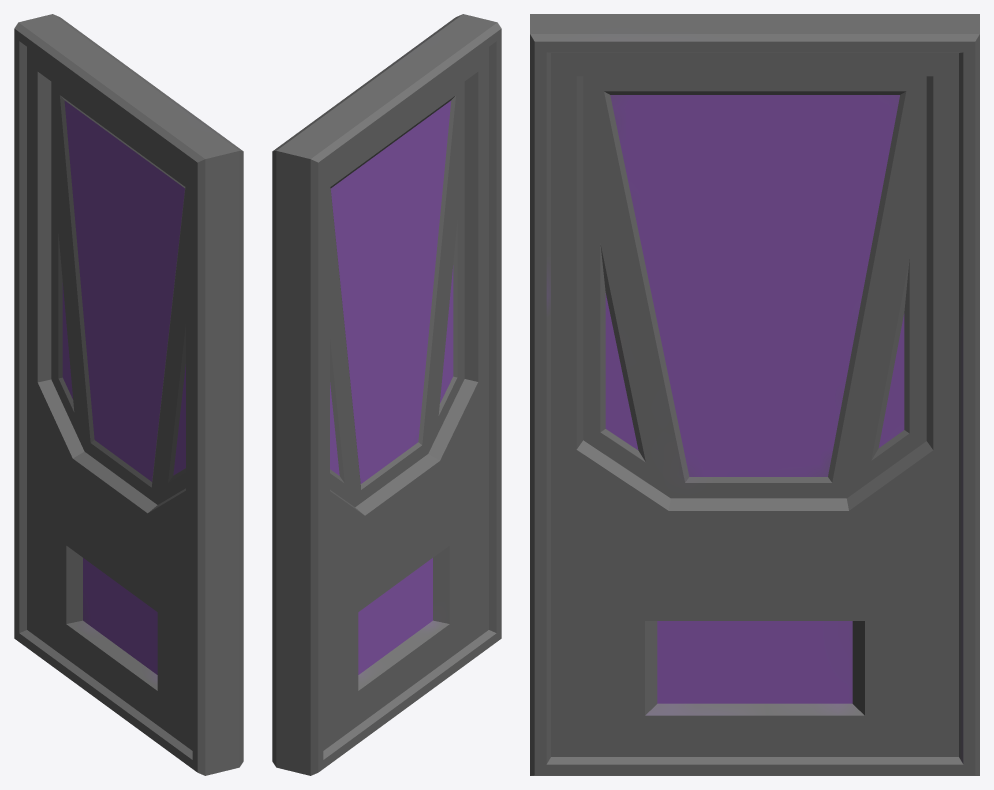
Rendered from SM_B4_Wall1_SM_B4_D.fbx.
The picture shows the model from 3 angles, left to right: view 1: azimuth 30°, elevation 25°; view 2: azimuth 150°, elevation 25°; view 3: azimuth 270°, elevation 25°; orthographic projection. The views are drawn at different scales.
Parts seen in each view (by area): view 1: SM_B4_Wall1_SM_B4_D; view 2: SM_B4_Wall1_SM_B4_D; view 3: SM_B4_Wall1_SM_B4_D.
Boxes of the visible parts, x1,y1,x2,y2 form: SM_B4_Wall1_SM_B4_D: (14,14,243,775); SM_B4_Wall1_SM_B4_D: (272,14,501,775); SM_B4_Wall1_SM_B4_D: (530,14,979,775).
Bounding box in the file's own units: 21.51 × 151 × 275.
